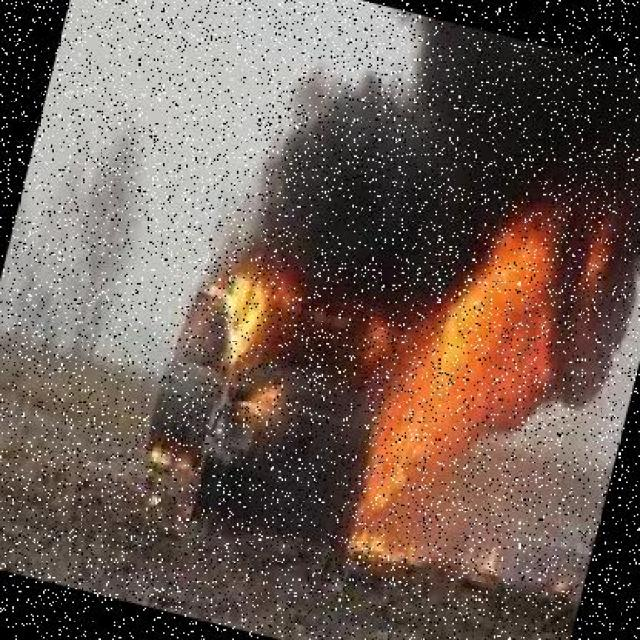fire: (318, 174, 638, 594), (178, 211, 338, 432)
